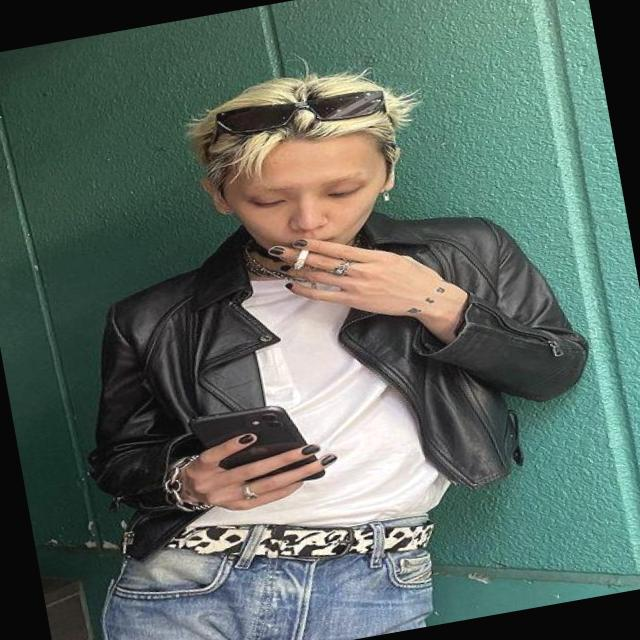cigarette: (256, 237, 334, 288)
